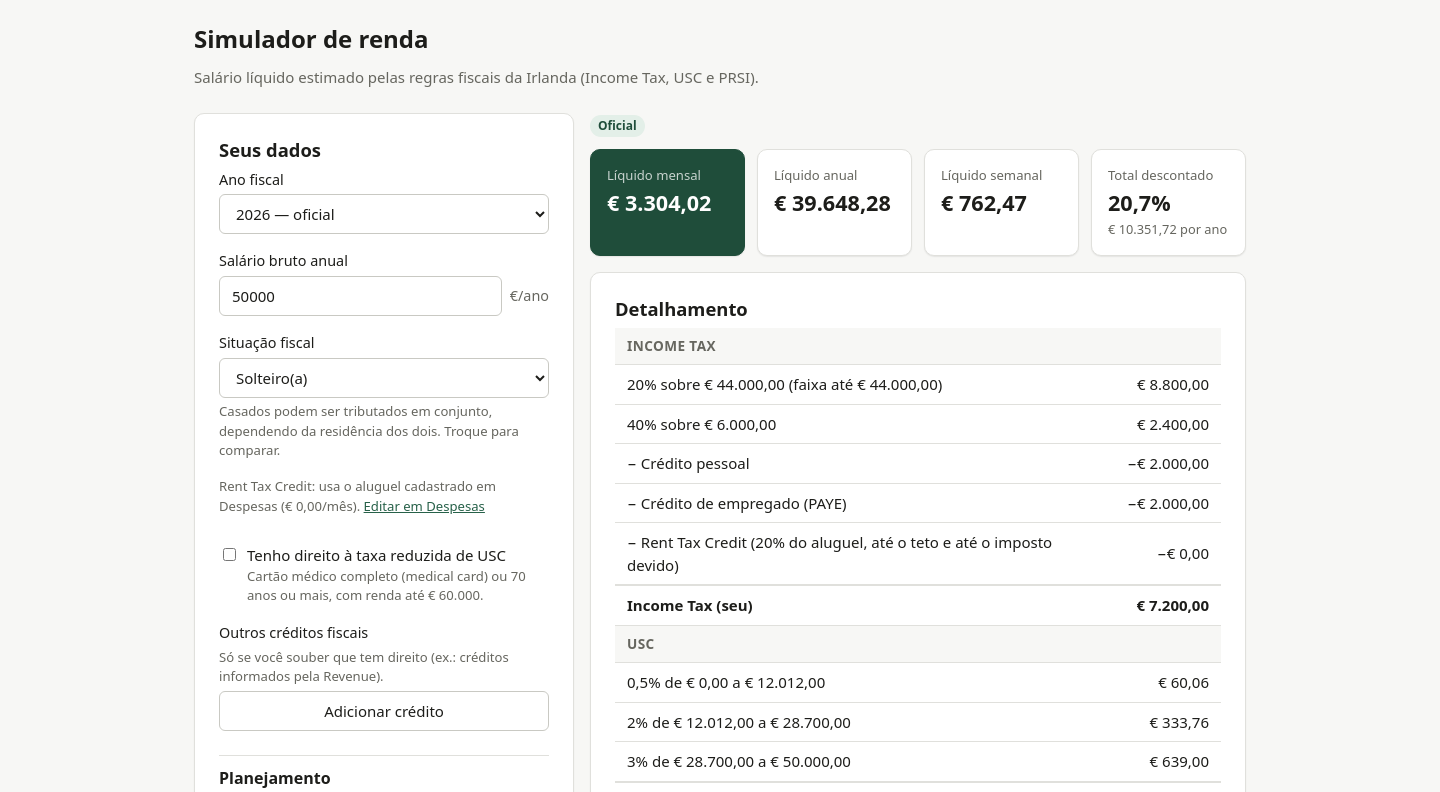
Test: IncomePage › salário inválido esconde o resultado e não salva outro valor
Expected: the text "Líquido mensal" is shown, [607, 166, 701, 184]
Replace the text in the field labelled "Salário bruto anual" with "-5". click: x=360, y=296
box: [219, 276, 502, 316]
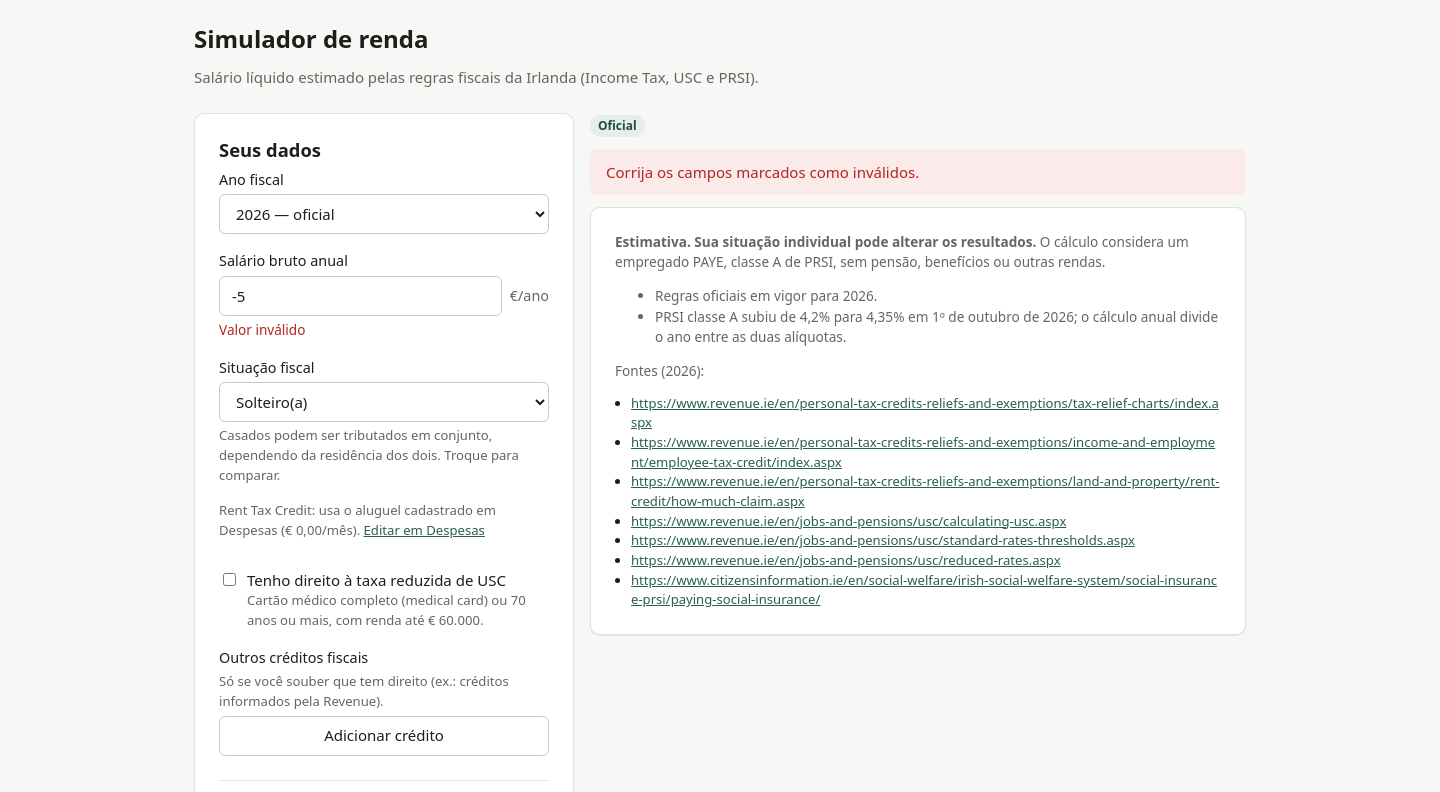
Expected: the text "Corrija os campos marcados como inválidos." is shown, [590, 148, 1246, 195]
Expected: the text "Líquido mensal" is gone
